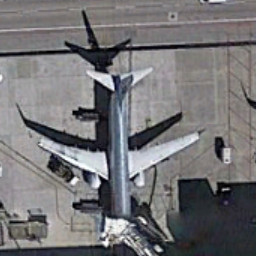Airplane: (30, 60, 206, 243)
